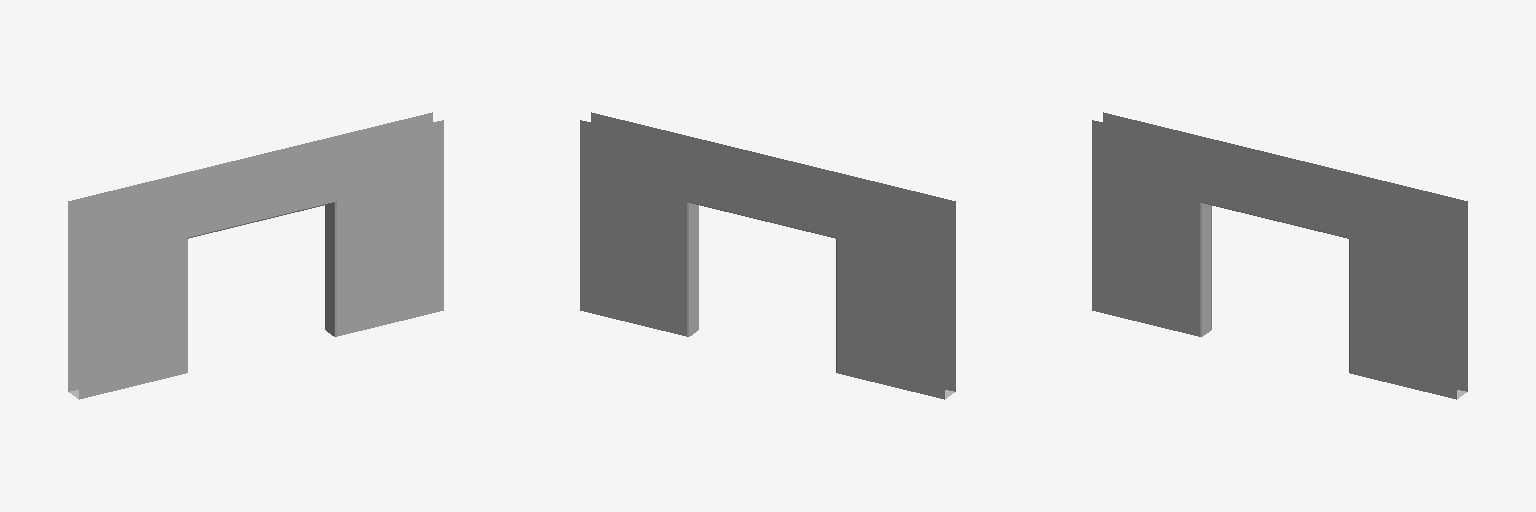
File: Wall_DividerDiningroom.obj
3 views of the same model, side by side, from view 1: azimuth 30°, elevation 25°; view 2: azimuth 150°, elevation 25°; view 3: azimuth 330°, elevation 25° (orthographic).
Visible parts, largest first — view 1: Wall_DiningRoomDivider; view 2: Wall_DiningRoomDivider; view 3: Wall_DiningRoomDivider.
Part boxes in pixels (bbox=[...]): Wall_DiningRoomDivider: bbox=[68, 112, 443, 399]; Wall_DiningRoomDivider: bbox=[580, 112, 955, 399]; Wall_DiningRoomDivider: bbox=[1092, 112, 1467, 399].
Size of the model in its own units: 2000 by 1000 by 100.